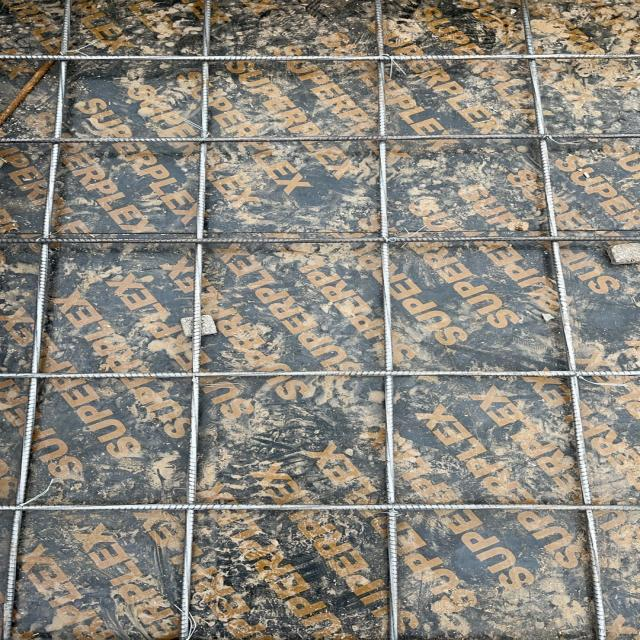ribbed bar: (516, 0, 611, 639), (0, 0, 74, 639), (177, 0, 214, 639), (370, 0, 402, 639), (0, 132, 639, 144), (0, 369, 639, 379), (0, 234, 639, 243), (0, 503, 639, 512), (0, 53, 639, 61)
